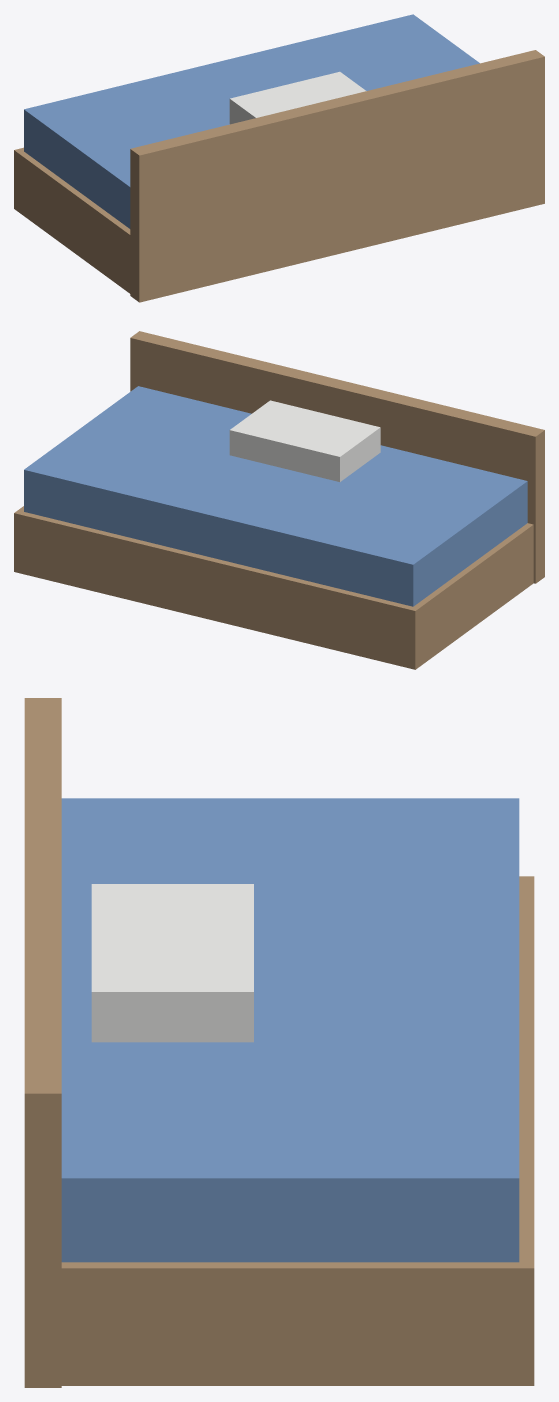
Rendered from bed.glb.
3 views of the same model, one above another, from view 1: azimuth 30°, elevation 25°; view 2: azimuth 150°, elevation 25°; view 3: azimuth 270°, elevation 25° (orthographic). The views are drawn at different scales.
Parts seen in each view (by area): view 1: Bed; view 2: Bed; view 3: Bed.
Boxes of the visible parts, x1,y1,x2,y2 form: Bed: [14, 14, 544, 302]; Bed: [14, 331, 544, 669]; Bed: [24, 698, 534, 1387].
Size of the model in its own units: 2.02 by 0.7 by 1.1.
